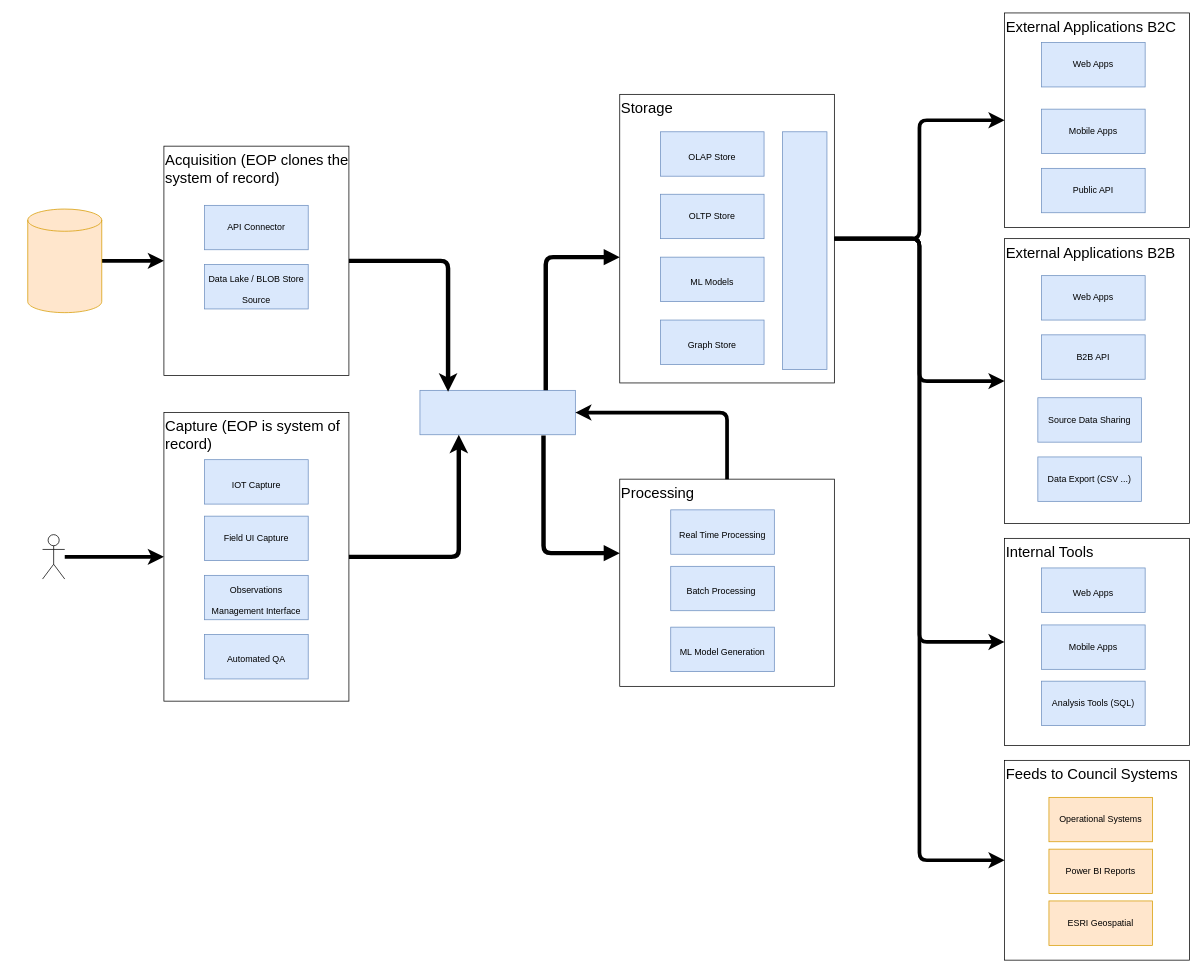
Image size: 1203x973. Some labels were removed from this diagram. Here are the shapes that lost their labels. From the top down, the centre of each, then its label:
point 64,260: Existing Source Systems
point 804,250: Data Access Cache
point 497,412: Hub
point 53,556: Field Samplers / IOT
